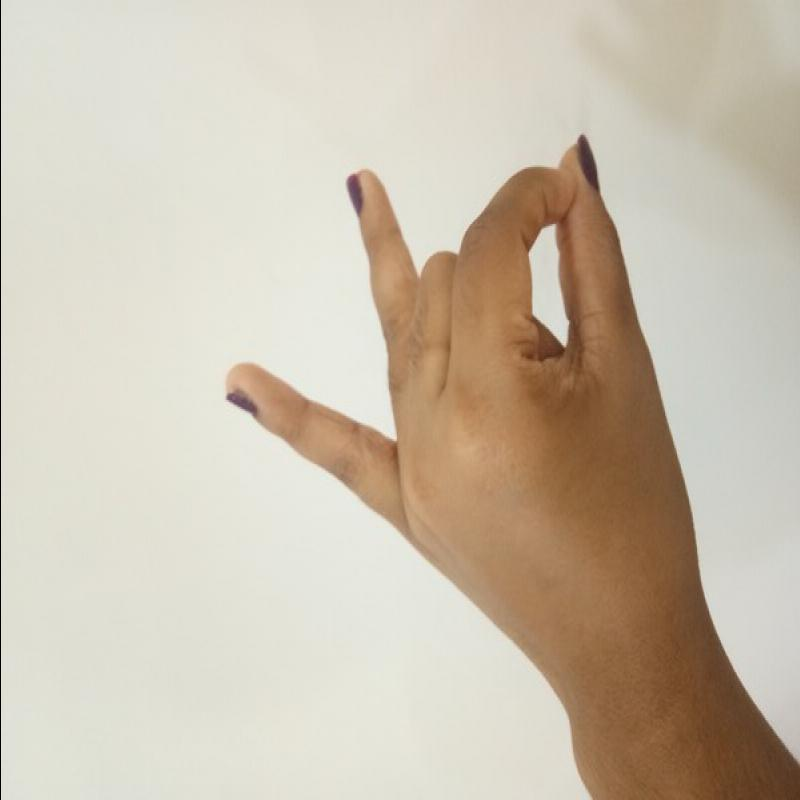Katakam: (206, 125, 759, 666)
